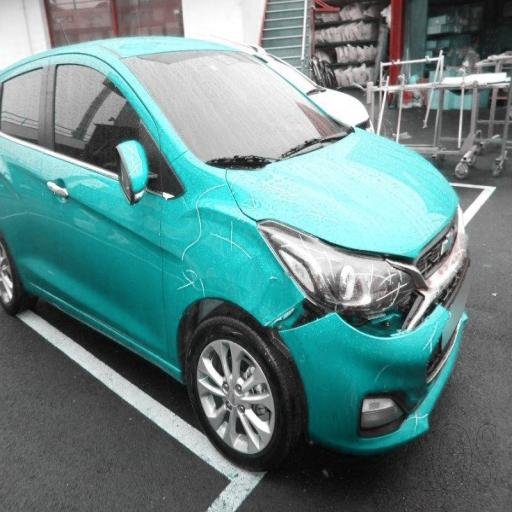broken: (275, 222, 450, 399)
scratch: (173, 200, 263, 342)
